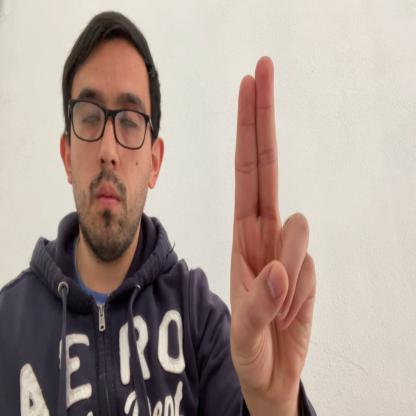U: (230, 55, 316, 386)
